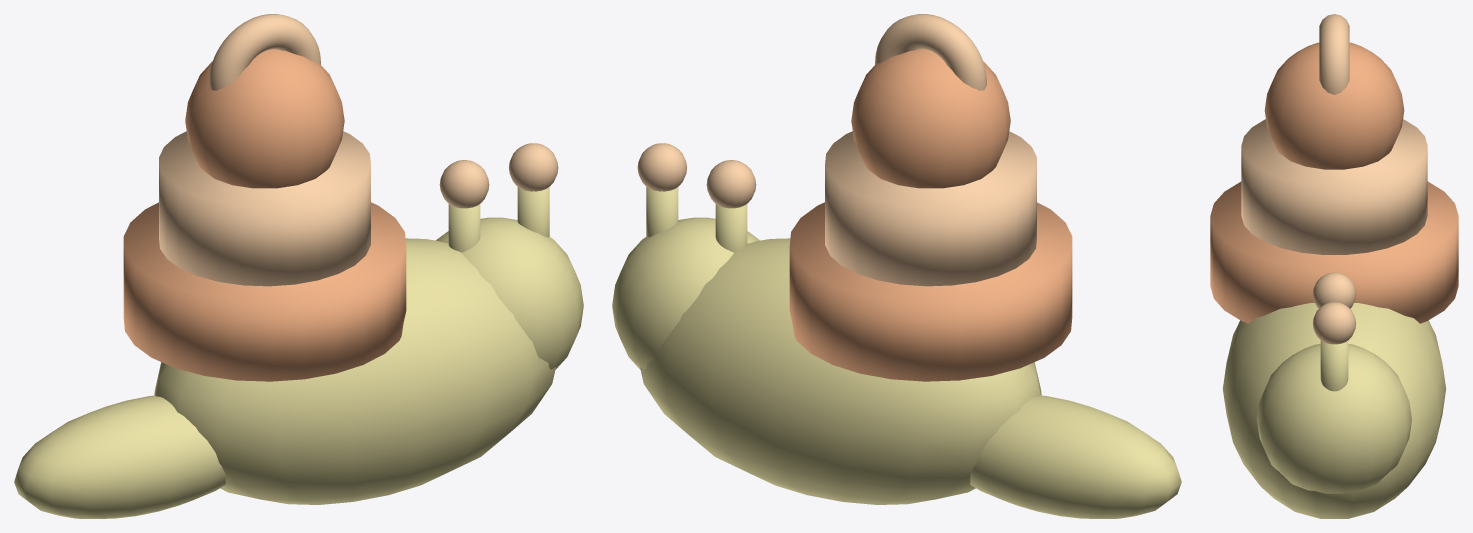
The model's file is snail.glb.
The picture shows the model from 3 angles, left to right: view 1: azimuth 30°, elevation 25°; view 2: azimuth 150°, elevation 25°; view 3: azimuth 270°, elevation 25°; orthographic projection. The views are drawn at different scales.
Visible parts, largest first — view 1: snail_body, snail_shell_base, snail_shell_mid, snail_tail, snail_shell_top, snail_head, snail_shell_spiral, snail_eye_0.24, snail_eye_0.33, snail_stalk_0.24, snail_stalk_0.33; view 2: snail_body, snail_shell_base, snail_shell_mid, snail_tail, snail_shell_top, snail_head, snail_shell_spiral, snail_eye_0.24, snail_eye_0.33, snail_stalk_0.24, snail_stalk_0.33; view 3: snail_body, snail_shell_base, snail_shell_mid, snail_head, snail_shell_top, snail_shell_spiral, snail_eye_0.33, snail_stalk_0.33, snail_eye_0.24.
Part boxes in pixels (x1=…): snail_body: x1=154, y1=238, x2=555, y2=504; snail_shell_base: x1=123, y1=202, x2=406, y2=381; snail_shell_mid: x1=159, y1=131, x2=370, y2=286; snail_tail: x1=14, y1=395, x2=225, y2=518; snail_shell_top: x1=185, y1=49, x2=344, y2=188; snail_head: x1=436, y1=217, x2=583, y2=369; snail_shell_spiral: x1=209, y1=14, x2=320, y2=90; snail_eye_0.24: x1=439, y1=160, x2=489, y2=208; snail_eye_0.33: x1=509, y1=143, x2=558, y2=191; snail_stalk_0.24: x1=448, y1=204, x2=480, y2=252; snail_stalk_0.33: x1=517, y1=187, x2=549, y2=237; snail_body: x1=640, y1=238, x2=1041, y2=504; snail_shell_base: x1=789, y1=202, x2=1072, y2=381; snail_shell_mid: x1=825, y1=131, x2=1036, y2=286; snail_tail: x1=970, y1=395, x2=1181, y2=518; snail_shell_top: x1=851, y1=49, x2=1010, y2=188; snail_head: x1=612, y1=217, x2=759, y2=369; snail_shell_spiral: x1=875, y1=14, x2=986, y2=90; snail_eye_0.24: x1=706, y1=160, x2=756, y2=208; snail_eye_0.33: x1=637, y1=143, x2=686, y2=191; snail_stalk_0.24: x1=715, y1=204, x2=747, y2=252; snail_stalk_0.33: x1=646, y1=187, x2=678, y2=237; snail_body: x1=1222, y1=303, x2=1446, y2=518; snail_shell_base: x1=1210, y1=181, x2=1458, y2=323; snail_shell_mid: x1=1241, y1=119, x2=1427, y2=254; snail_head: x1=1257, y1=344, x2=1411, y2=493; snail_shell_top: x1=1264, y1=42, x2=1404, y2=169; snail_shell_spiral: x1=1319, y1=14, x2=1349, y2=94; snail_eye_0.33: x1=1312, y1=302, x2=1356, y2=344; snail_stalk_0.33: x1=1320, y1=340, x2=1348, y2=391; snail_eye_0.24: x1=1312, y1=272, x2=1356, y2=308.
Size of the model in its own units: 0.718 by 0.614 by 0.32.
